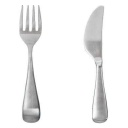Fork: (12, 1, 52, 128)
